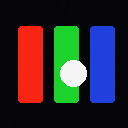2 circle: (60, 60, 86, 86)
